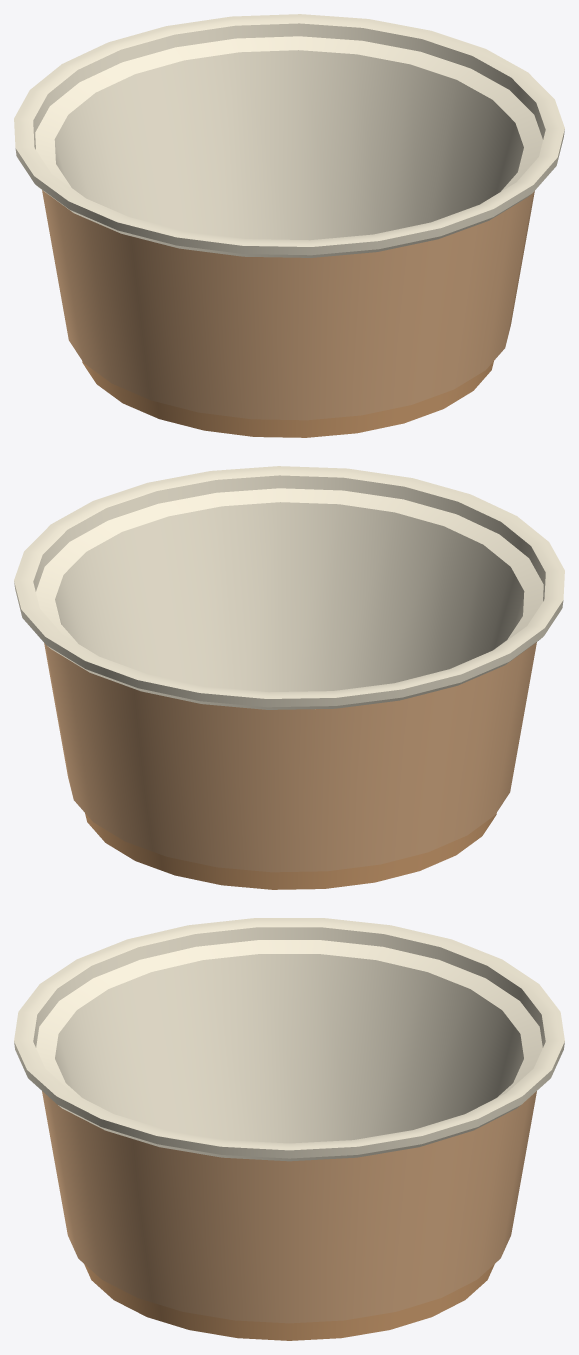
File: Cup M Beige.fbx
The picture shows the model from 3 angles, top to bottom: view 1: azimuth 30°, elevation 25°; view 2: azimuth 150°, elevation 25°; view 3: azimuth 270°, elevation 25°; orthographic projection.
Parts seen in each view (by area): view 1: Cup M Beige; view 2: Cup M Beige; view 3: Cup M Beige.
Part boxes in pixels (box(x1,y1,x2,y2)): Cup M Beige: box(14, 14, 564, 437); Cup M Beige: box(14, 466, 564, 889); Cup M Beige: box(14, 918, 564, 1340).
Size of the model in its own units: 0.9488 by 0.4176 by 0.9507.
